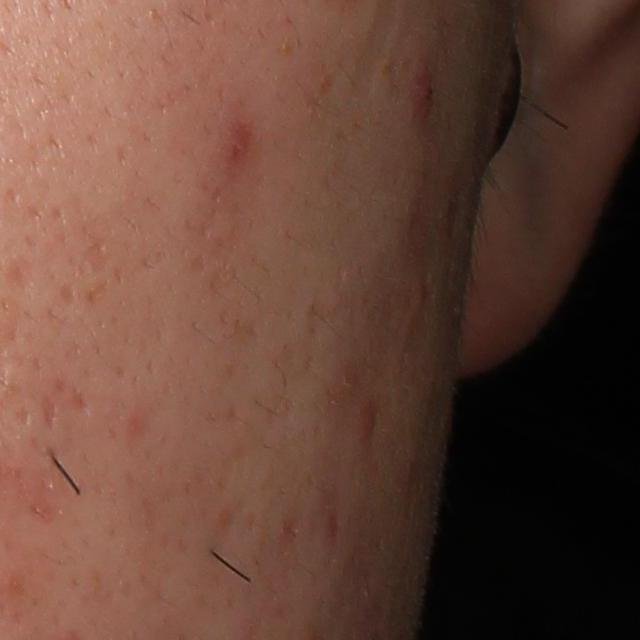atrophic_scar: (4, 256, 42, 296), (77, 241, 111, 278), (62, 382, 90, 413), (41, 393, 61, 436), (58, 280, 78, 308)
papule: (215, 123, 254, 173), (413, 61, 442, 117), (356, 399, 380, 437)
